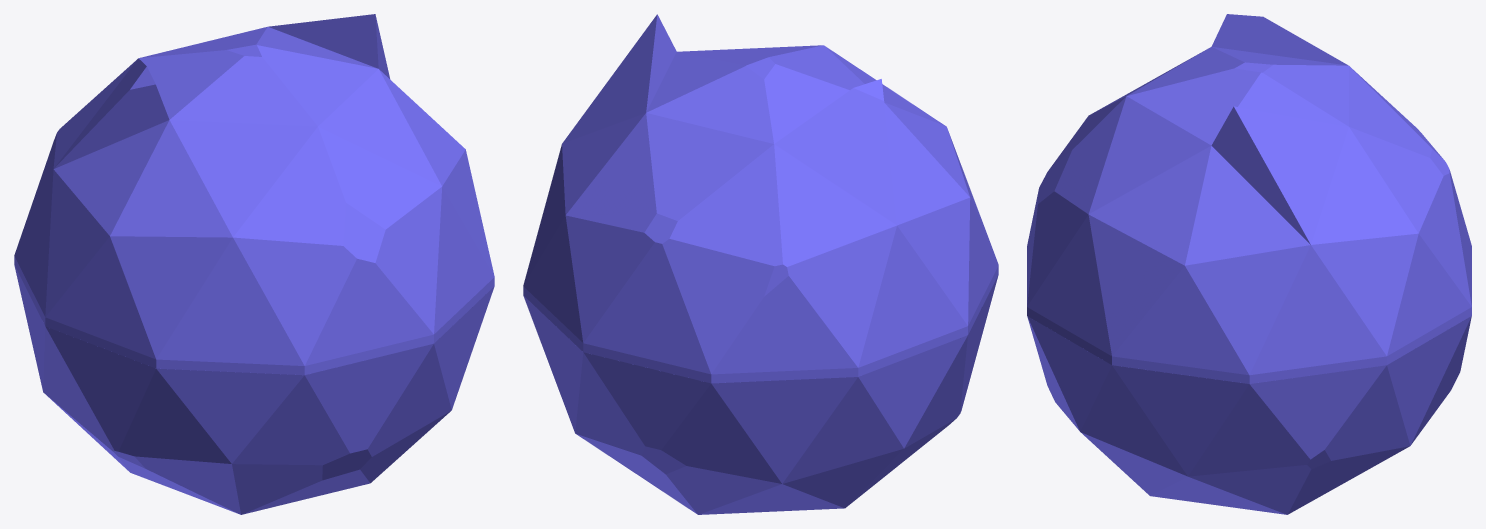
File: companion_uvs_textures_test.fbx
The picture shows the model from 3 angles, left to right: view 1: azimuth 30°, elevation 25°; view 2: azimuth 150°, elevation 25°; view 3: azimuth 270°, elevation 25°; orthographic projection. The views are drawn at different scales.
Parts seen in each view (by area): view 1: companion; view 2: companion; view 3: companion.
Boxes of the visible parts, x1,y1,x2,y2 form: companion: (14,14,494,514); companion: (523,14,998,514); companion: (1027,14,1471,514).
Bounding box in the file's own units: 34.35 × 35.74 × 32.67.
